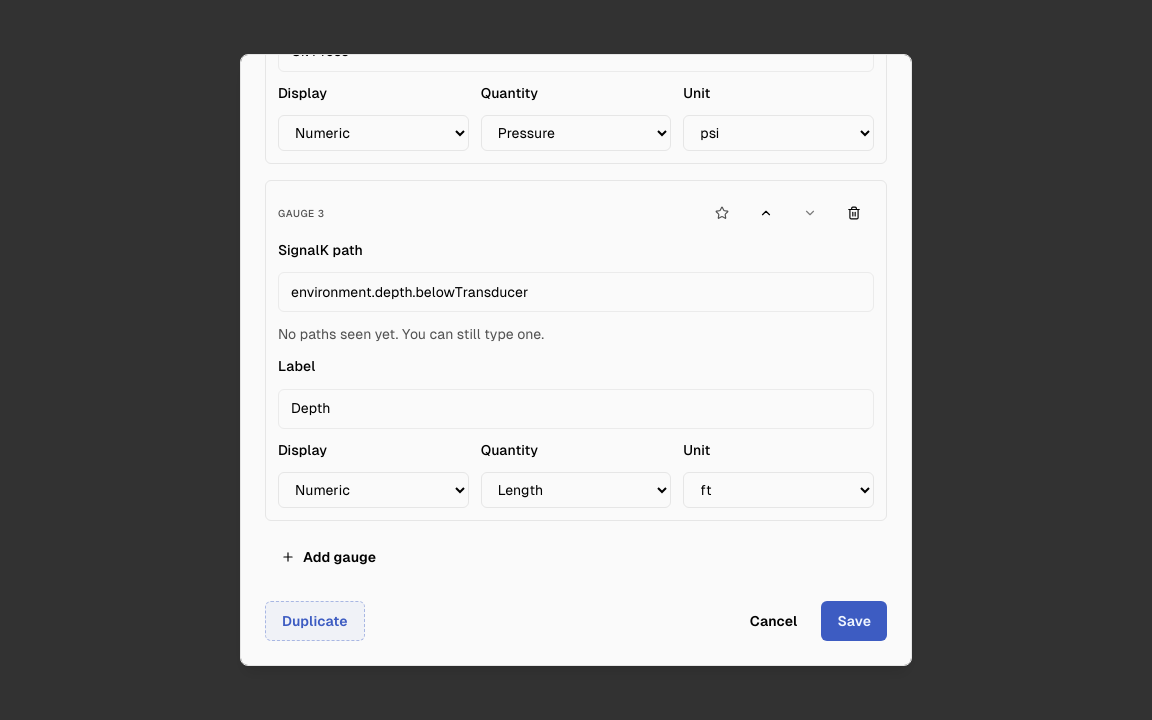
Test: GaugeGroupConfigDialog › adds and removes members
(page scrolled)
Click the button "Add gauge": click(329, 557) [265,537,392,577]
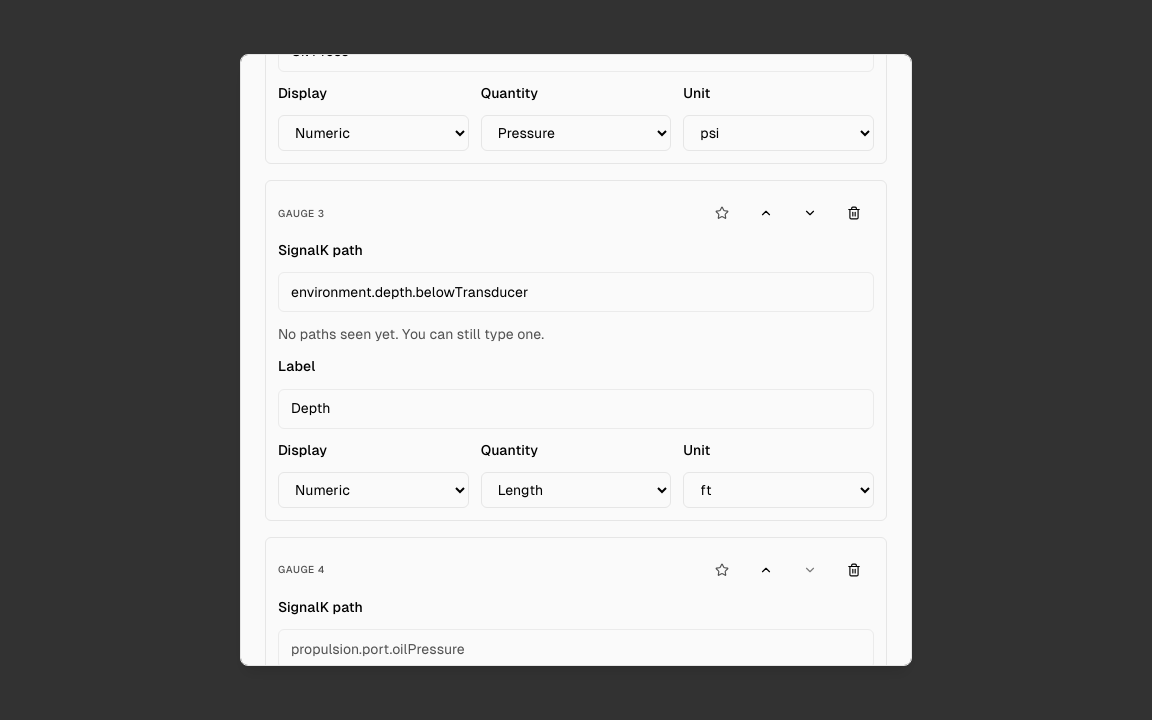
Check: the number of fields labelled "SignalK path" is 4
Click the button named "remove gauge": click(854, 570) [834,550,874,590]
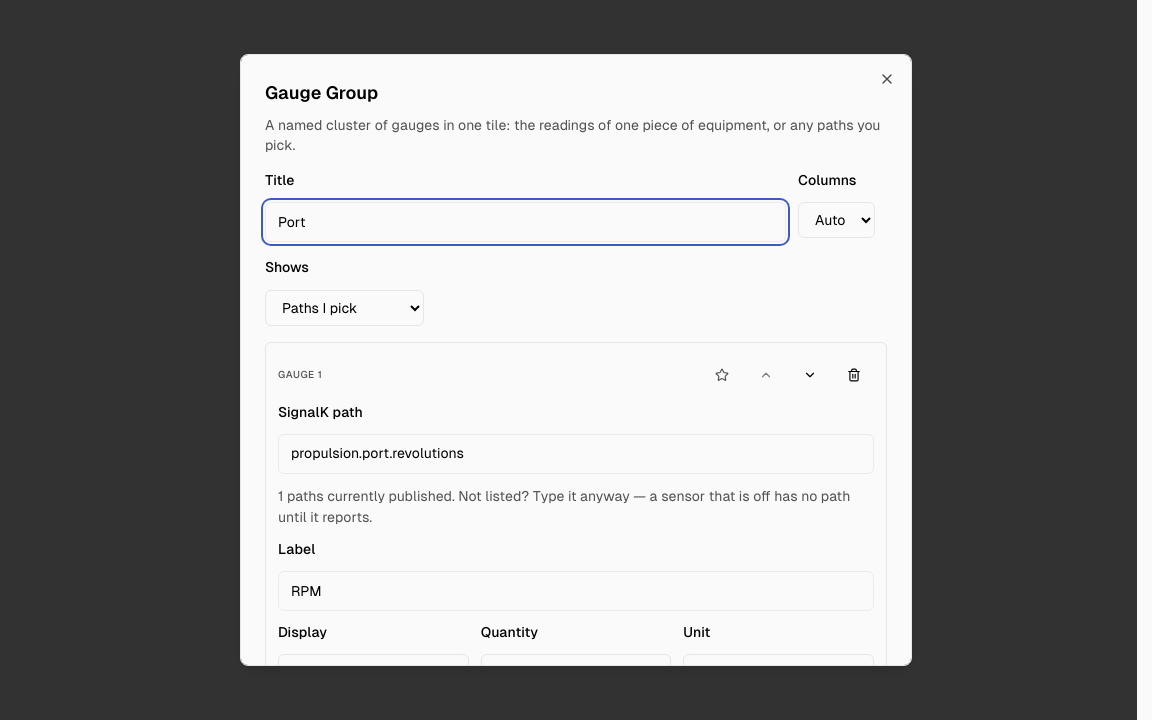
Check: the number of fields labelled "SignalK path" is 3
